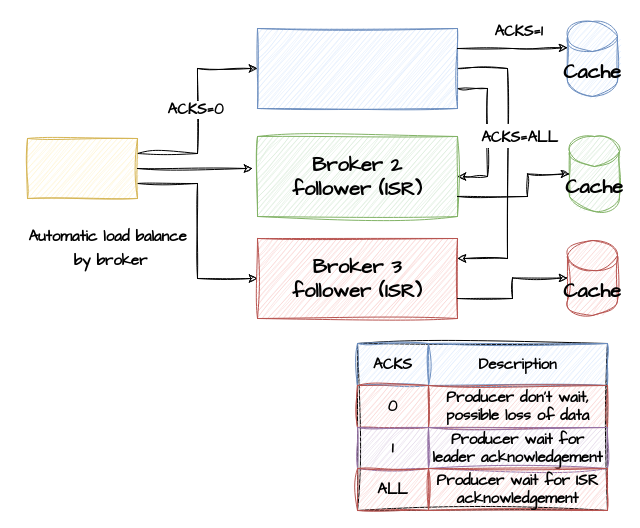
Some shapes in this 640 by 528 pixel diagram are drawn without their labels. The centre of each missing label's shape, as x and y in pixels:
"Broker 1 leader" goes at [357,68].
"Producer" goes at [82,168].
